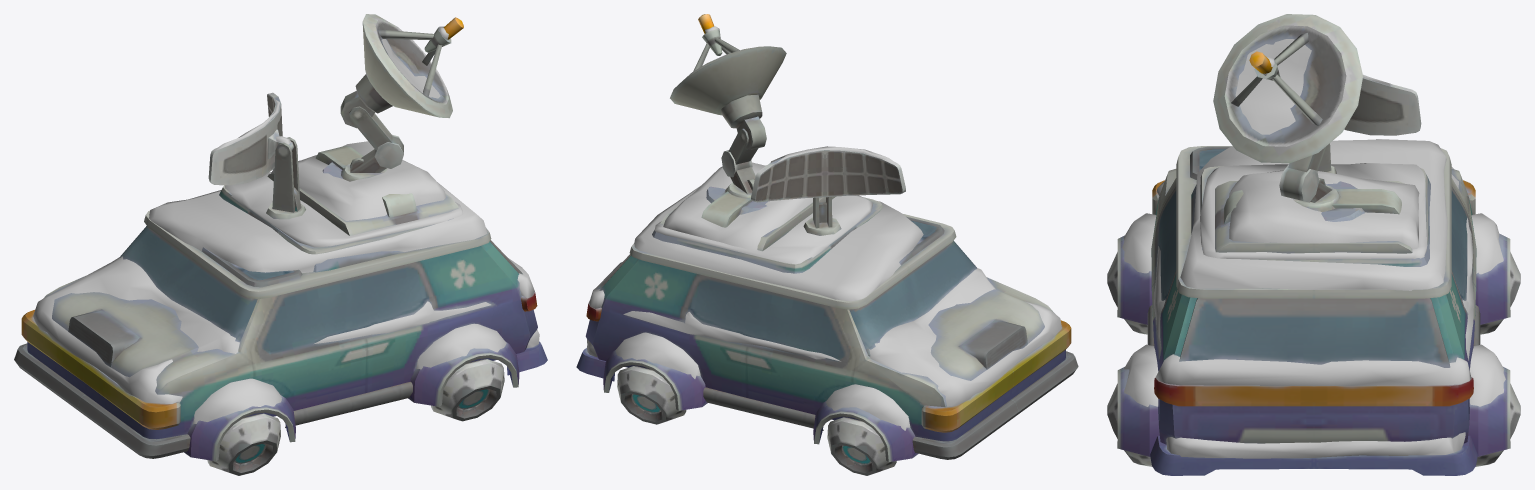
Rendered from pref_sm_city_car01_snow_lv3.fbx.
3 renders of one model, left to right at view 1: azimuth 30°, elevation 25°; view 2: azimuth 150°, elevation 25°; view 3: azimuth 270°, elevation 25°, orthographic. The views are drawn at different scales.
Parts seen in each view (by area): view 1: sm_city_car01_snow_lv3, sm_city_car01b_snow_lv3; view 2: sm_city_car01_snow_lv3, sm_city_car01b_snow_lv3; view 3: sm_city_car01_snow_lv3, sm_city_car01b_snow_lv3.
Part boxes in pixels (x1,y1,x2,y2): sm_city_car01_snow_lv3: [14, 14, 547, 475]; sm_city_car01b_snow_lv3: [33, 26, 539, 424]; sm_city_car01_snow_lv3: [576, 14, 1078, 475]; sm_city_car01b_snow_lv3: [587, 26, 1061, 430]; sm_city_car01_snow_lv3: [1107, 14, 1520, 475]; sm_city_car01b_snow_lv3: [1122, 39, 1505, 458].
Size of the model in its own units: 5.34 by 4.46 by 3.87.
